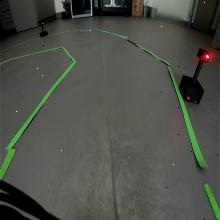red: (196, 47, 211, 63)
